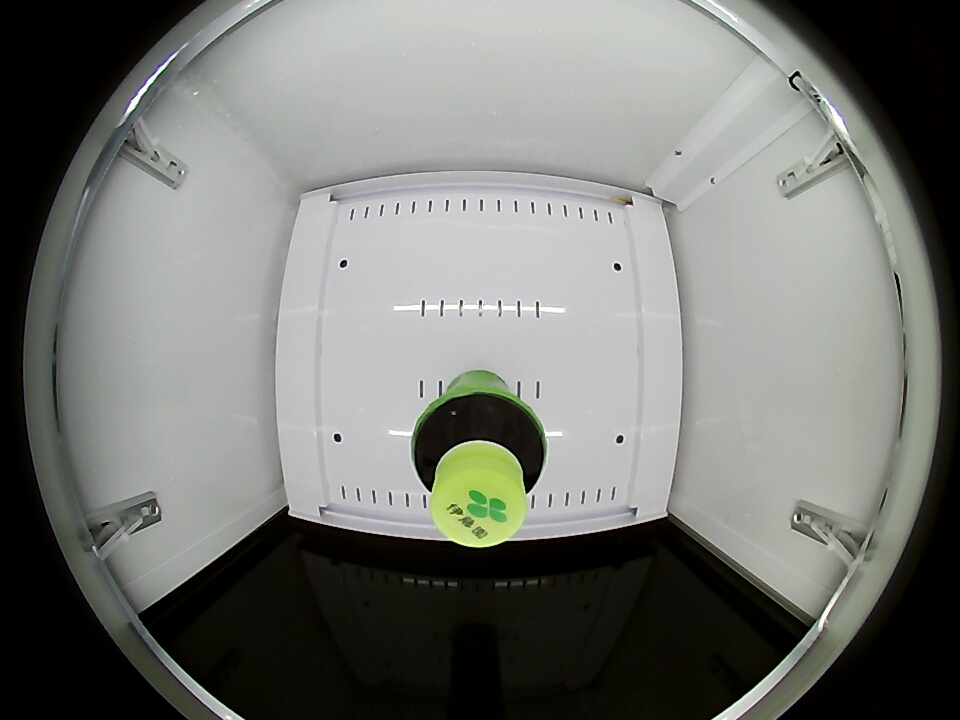yitengyuan: (410, 392, 548, 547)
